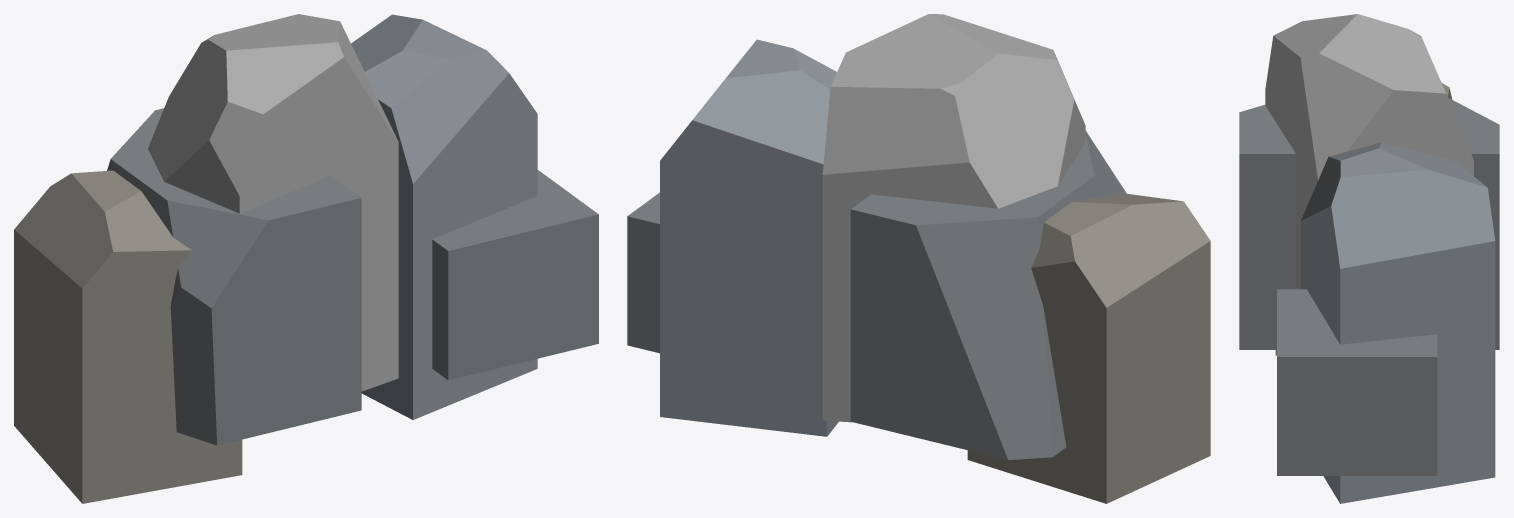
The model's file is Rock_Wall_04.fbx.
The picture shows the model from 3 angles, left to right: view 1: azimuth 30°, elevation 25°; view 2: azimuth 150°, elevation 25°; view 3: azimuth 270°, elevation 25°; orthographic projection. The views are drawn at different scales.
Parts seen in each view (by area): view 1: Rock_Wall_04; view 2: Rock_Wall_04; view 3: Rock_Wall_04.
Boxes of the visible parts, x1,y1,x2,y2 form: Rock_Wall_04: (14, 14, 598, 503); Rock_Wall_04: (627, 14, 1210, 503); Rock_Wall_04: (1239, 14, 1499, 503).
Bounding box in the file's own units: 6.73 × 4.91 × 3.25.
